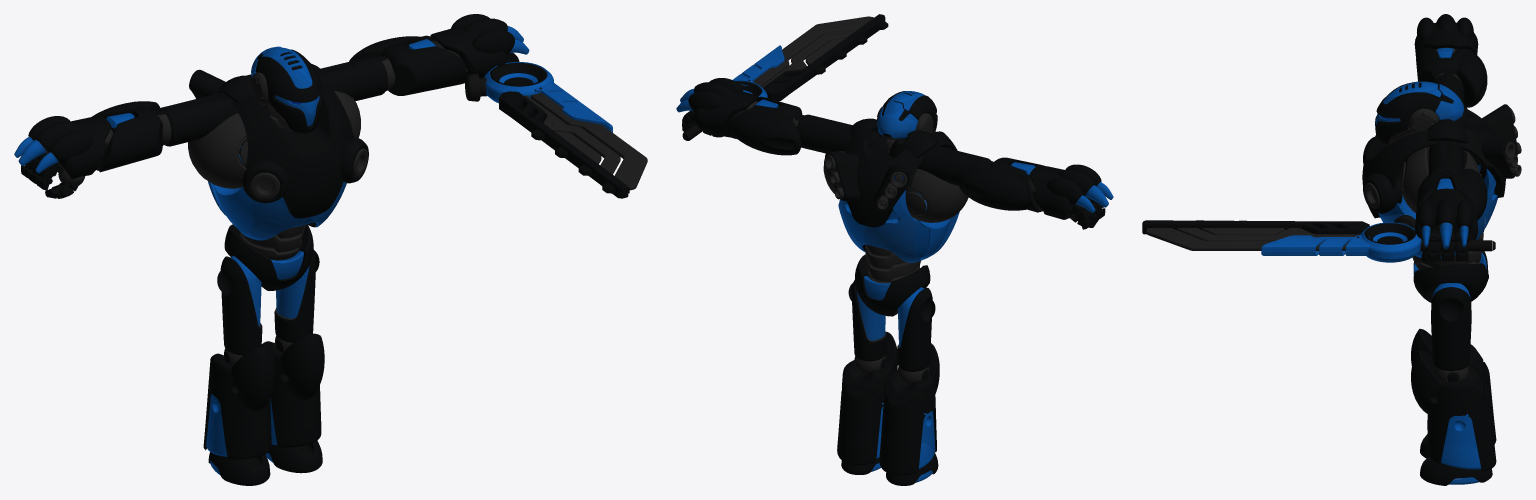
Rendered from DROID.obj.
3 views of the same model, side by side, from view 1: azimuth 30°, elevation 25°; view 2: azimuth 150°, elevation 25°; view 3: azimuth 270°, elevation 25° (orthographic). The views are drawn at different scales.
Parts seen in each view (by area): view 1: CHEST.043_Roundcube.194, SWARD.007_Plane.228, SHIN.180_Cylinder.2466, ARM.001_Sphere.002, SHIN.179_Cylinder.2465, HEAD.095_Roundcube.198, HAND.001_Cylinder.001, FOREARM.122_Sphere.260, THIGH.185_Sphere.259, HAND.080_Cylinder.2467, FOREARM.001_Sphere.001, ARM.147_Sphere.263 (+5 smaller); view 2: CHEST.043_Roundcube.194, SWARD.007_Plane.228, SHIN.180_Cylinder.2466, ARM.001_Sphere.002, SHIN.179_Cylinder.2465, HAND.001_Cylinder.001, FOREARM.001_Sphere.001, FOREARM.122_Sphere.260, THIGH.185_Sphere.259, HAND.080_Cylinder.2467, ARM.147_Sphere.263, HEAD.095_Roundcube.198 (+4 smaller); view 3: SWARD.007_Plane.228, CHEST.043_Roundcube.194, SHIN.179_Cylinder.2465, HEAD.095_Roundcube.198, THIGH.184_Sphere.258, ARM.147_Sphere.263, HAND.080_Cylinder.2467, FOREARM.001_Sphere.001, HIP.081_Roundcube.195, HAND.001_Cylinder.001, FOREARM.122_Sphere.260, FOOT.182_Roundcube.196 (+3 smaller).
Part boxes in pixels (<box>): CHEST.043_Roundcube.194: <box>189,69,368,240</box>; SWARD.007_Plane.228: <box>465,62,647,198</box>; SHIN.180_Cylinder.2466: <box>203,345,275,459</box>; ARM.001_Sphere.002: <box>153,75,269,188</box>; SHIN.179_Cylinder.2465: <box>261,333,324,447</box>; HEAD.095_Roundcube.198: <box>250,46,322,133</box>; HAND.001_Cylinder.001: <box>14,116,113,179</box>; FOREARM.122_Sphere.260: <box>349,35,467,95</box>; THIGH.185_Sphere.259: <box>217,255,262,365</box>; HAND.080_Cylinder.2467: <box>430,14,529,78</box>; FOREARM.001_Sphere.001: <box>92,101,162,172</box>; ARM.147_Sphere.263: <box>312,56,395,138</box>; CHEST.043_Roundcube.194: <box>824,131,959,262</box>; SWARD.007_Plane.228: <box>682,14,888,140</box>; SHIN.180_Cylinder.2466: <box>879,343,939,475</box>; ARM.001_Sphere.002: <box>889,130,993,222</box>; SHIN.179_Cylinder.2465: <box>837,331,897,465</box>; HAND.001_Cylinder.001: <box>1028,164,1113,219</box>; FOREARM.001_Sphere.001: <box>959,157,1044,212</box>; FOREARM.122_Sphere.260: <box>726,96,802,155</box>; THIGH.185_Sphere.259: <box>897,287,935,384</box>; HAND.080_Cylinder.2467: <box>676,78,758,137</box>; ARM.147_Sphere.263: <box>792,114,889,193</box>; HEAD.095_Roundcube.198: <box>877,91,937,138</box>; SWARD.007_Plane.228: <box>1142,215,1495,262</box>; CHEST.043_Roundcube.194: <box>1362,104,1521,258</box>; SHIN.179_Cylinder.2465: <box>1411,350,1496,471</box>; HEAD.095_Roundcube.198: <box>1375,81,1464,145</box>; THIGH.184_Sphere.258: <box>1431,283,1471,381</box>; ARM.147_Sphere.263: <box>1398,119,1481,212</box>; HAND.080_Cylinder.2467: <box>1414,188,1478,248</box>; FOREARM.001_Sphere.001: <box>1416,48,1487,107</box>; HIP.081_Roundcube.195: <box>1413,251,1488,302</box>; HAND.001_Cylinder.001: <box>1414,14,1478,57</box>; FOREARM.122_Sphere.260: <box>1416,168,1487,220</box>; FOOT.182_Roundcube.196: <box>1420,456,1492,485</box>.
Bounding box in the file's own units: 18.64 × 15.09 × 13.55.
